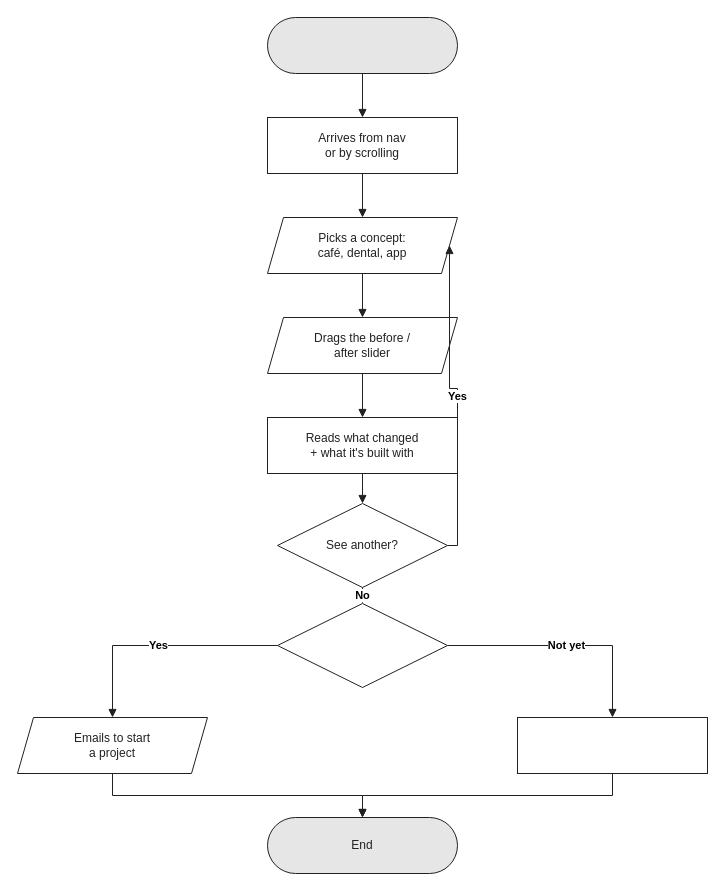
Image size: 725x891. Some labels were removed from this diagram. Here are the shapes that lost their labels. From the top down, the box of each, then its label:
(266, 16, 458, 74): Start
(276, 602, 448, 688): Wants this for their own site?
(516, 716, 708, 774): Reads the full case studies
